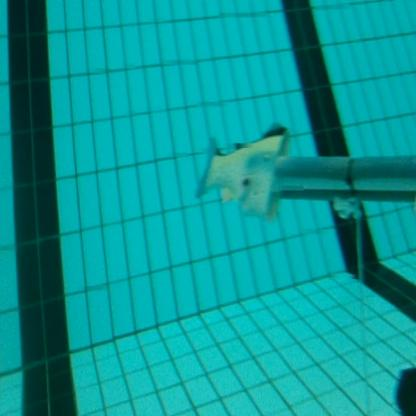tail: (193, 120, 298, 231)
